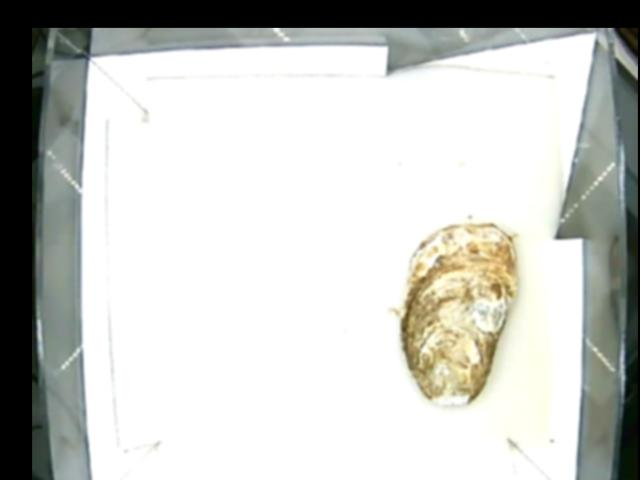Shell: (401, 224, 519, 403)
